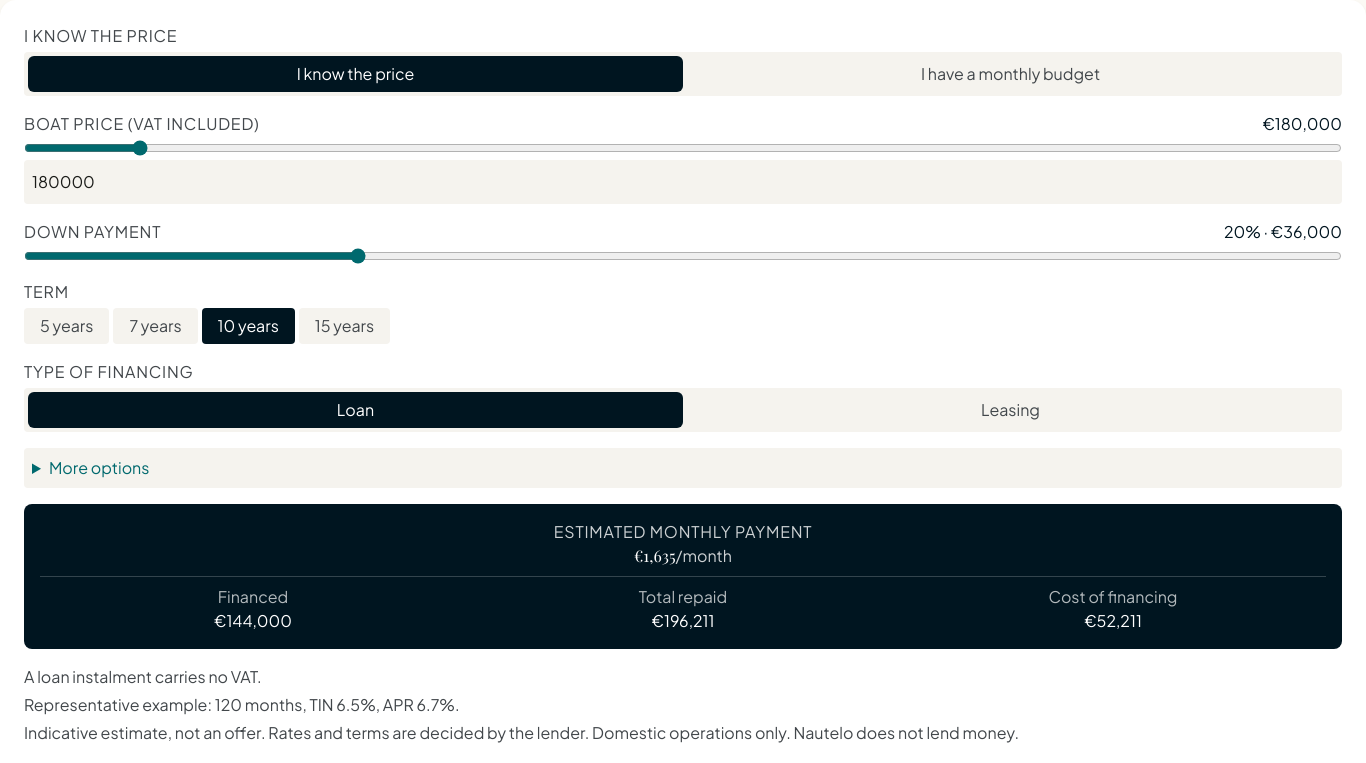
Test case: FinanceSimulator › turns a monthly budget into boats to browse
Expected: the text "Estimated monthly payment" is shown, [554,521,812,542]
Click the button "I have a monthly budget".
click(1010, 74)  # box [683,56,1338,92]
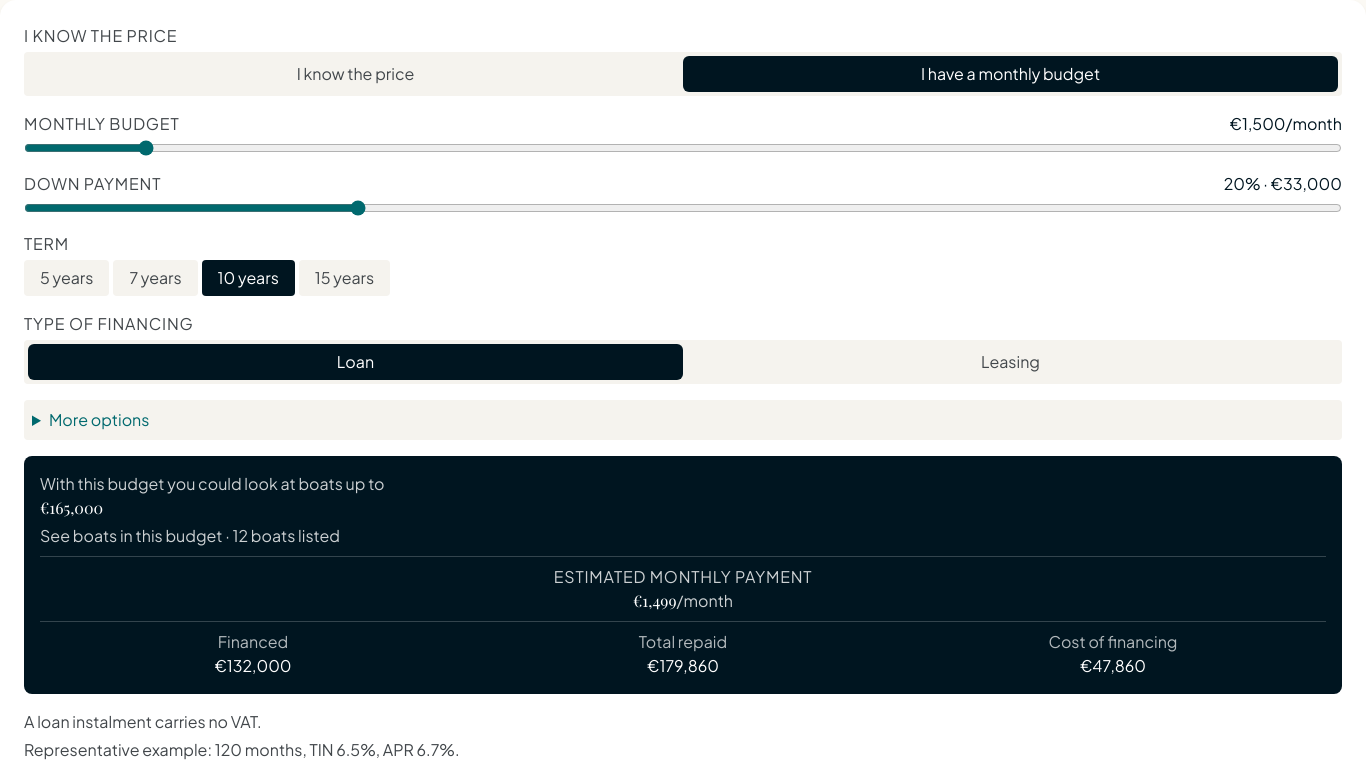
Expected: the text "With this budget you could look at boats up to" is shown, [40,473,384,494]
Expected: the text "See boats in this budget · 12 boats listed" is shown, [40,525,340,546]
